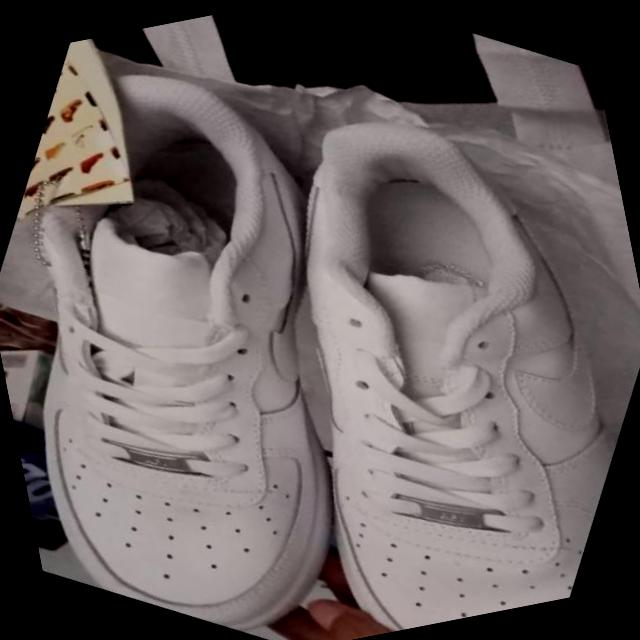nike_fake_airforce: (0, 0, 541, 640), (101, 48, 640, 640)
